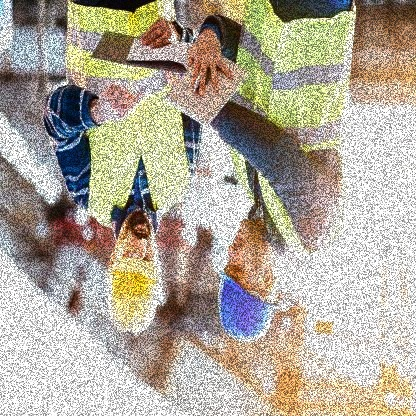blue: (212, 262, 280, 346)
vest: (220, 3, 363, 240), (59, 1, 196, 230)
yellow: (100, 260, 168, 338)
